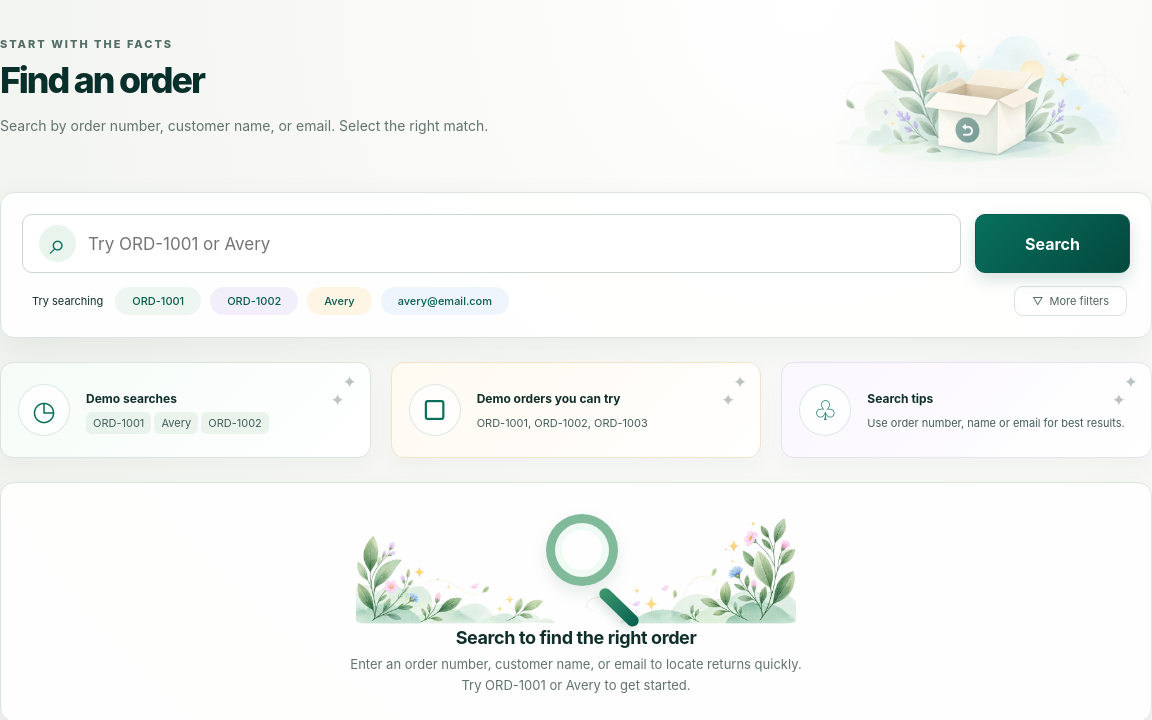
it: uses a suggested order as the active search
The image size is (1152, 720).
Click the button named "Search ORD-1001".
click(158, 301)  # box top-left (115, 287), bottom-right (201, 315)
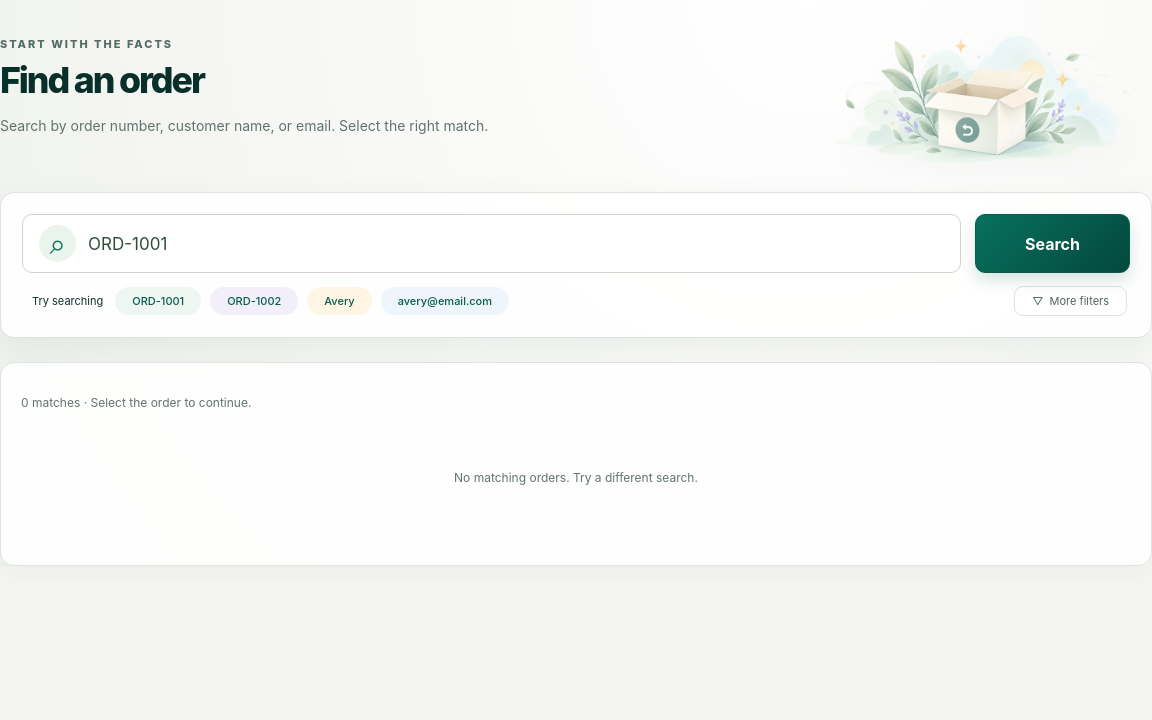
Now the search field named "Search orders" holds "ORD-1001", box top-left (22, 214), bottom-right (961, 273)
Now the text "0 matches · Select the order to continue." is shown, box top-left (21, 395), bottom-right (251, 410)
